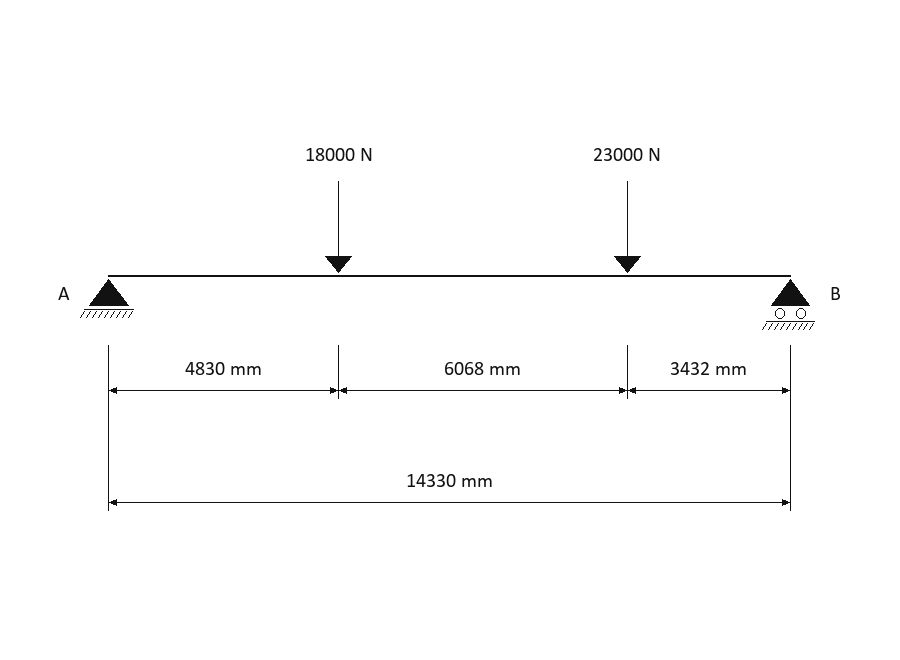pin_support: (80, 279, 134, 318)
point_load: (325, 181, 352, 273), (614, 181, 641, 273)
roller_support: (762, 279, 815, 330)
